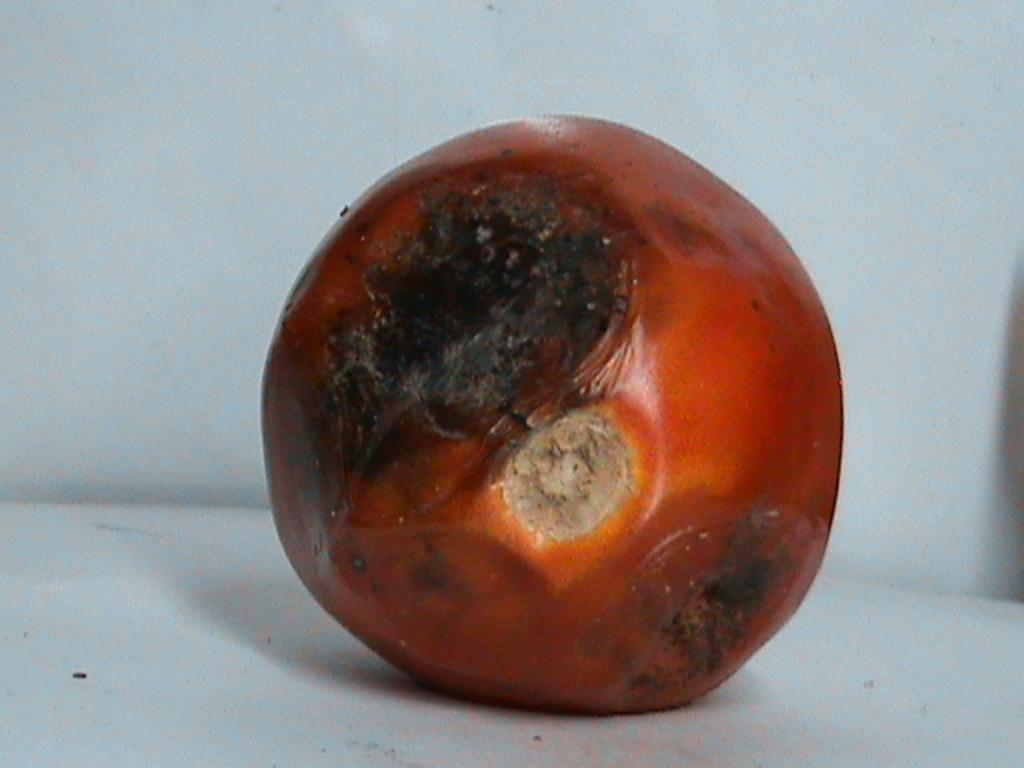rot_mold_decay: (309, 171, 626, 480), (669, 547, 773, 669)
tomato: (262, 118, 842, 710)
